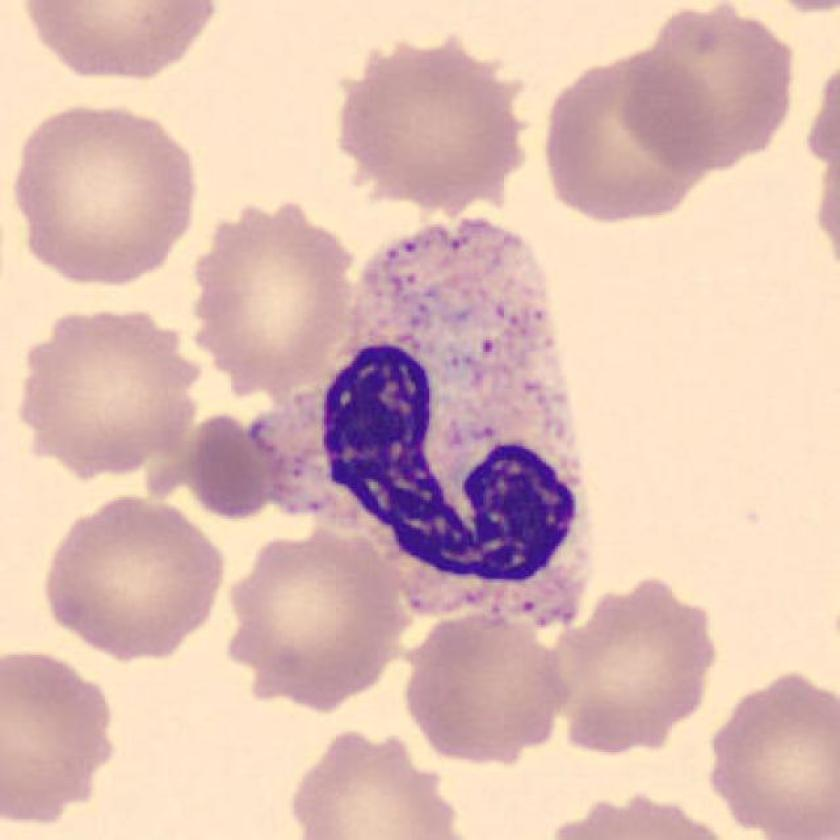neutrophil: (285, 217, 591, 625)
